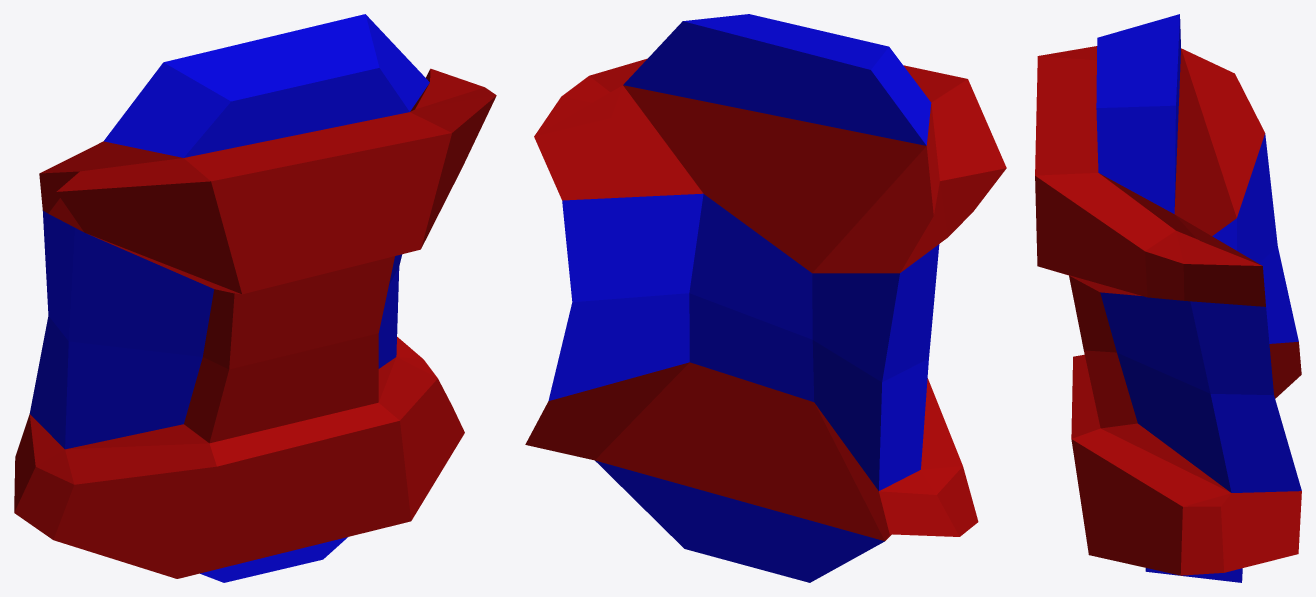
Rendered from Chr_KneeAttachLeft_Static_01.fbx.
3 views of the same model, side by side, from view 1: azimuth 30°, elevation 25°; view 2: azimuth 150°, elevation 25°; view 3: azimuth 270°, elevation 25° (orthographic). The views are drawn at different scales.
Parts seen in each view (by area): view 1: Chr_KneeAttachLeft_01; view 2: Chr_KneeAttachLeft_01; view 3: Chr_KneeAttachLeft_01.
Boxes of the visible parts, x1=… form: Chr_KneeAttachLeft_01: x1=14, y1=14, x2=496, y2=582; Chr_KneeAttachLeft_01: x1=525, y1=14, x2=1006, y2=582; Chr_KneeAttachLeft_01: x1=1035, y1=14, x2=1301, y2=582.
Bounding box in the file's own units: 15.55 × 17.31 × 8.44.
